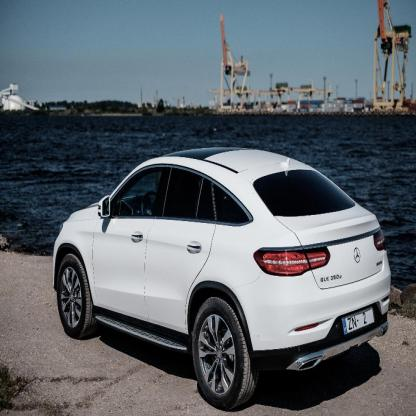Car: (54, 148, 392, 411)
